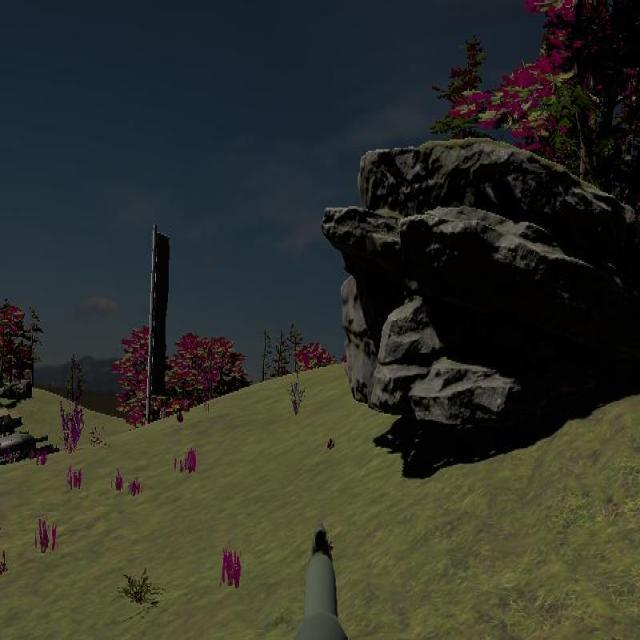Tank: (0, 431, 59, 481)
car: (0, 410, 24, 437)
